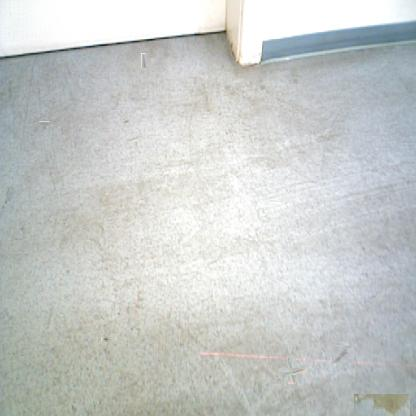liquid: (354, 394, 410, 416)
mark: (332, 342, 354, 362), (0, 187, 14, 211), (284, 362, 300, 380), (128, 132, 141, 144), (141, 53, 146, 68), (40, 120, 49, 128), (103, 336, 109, 343), (122, 119, 128, 125)
